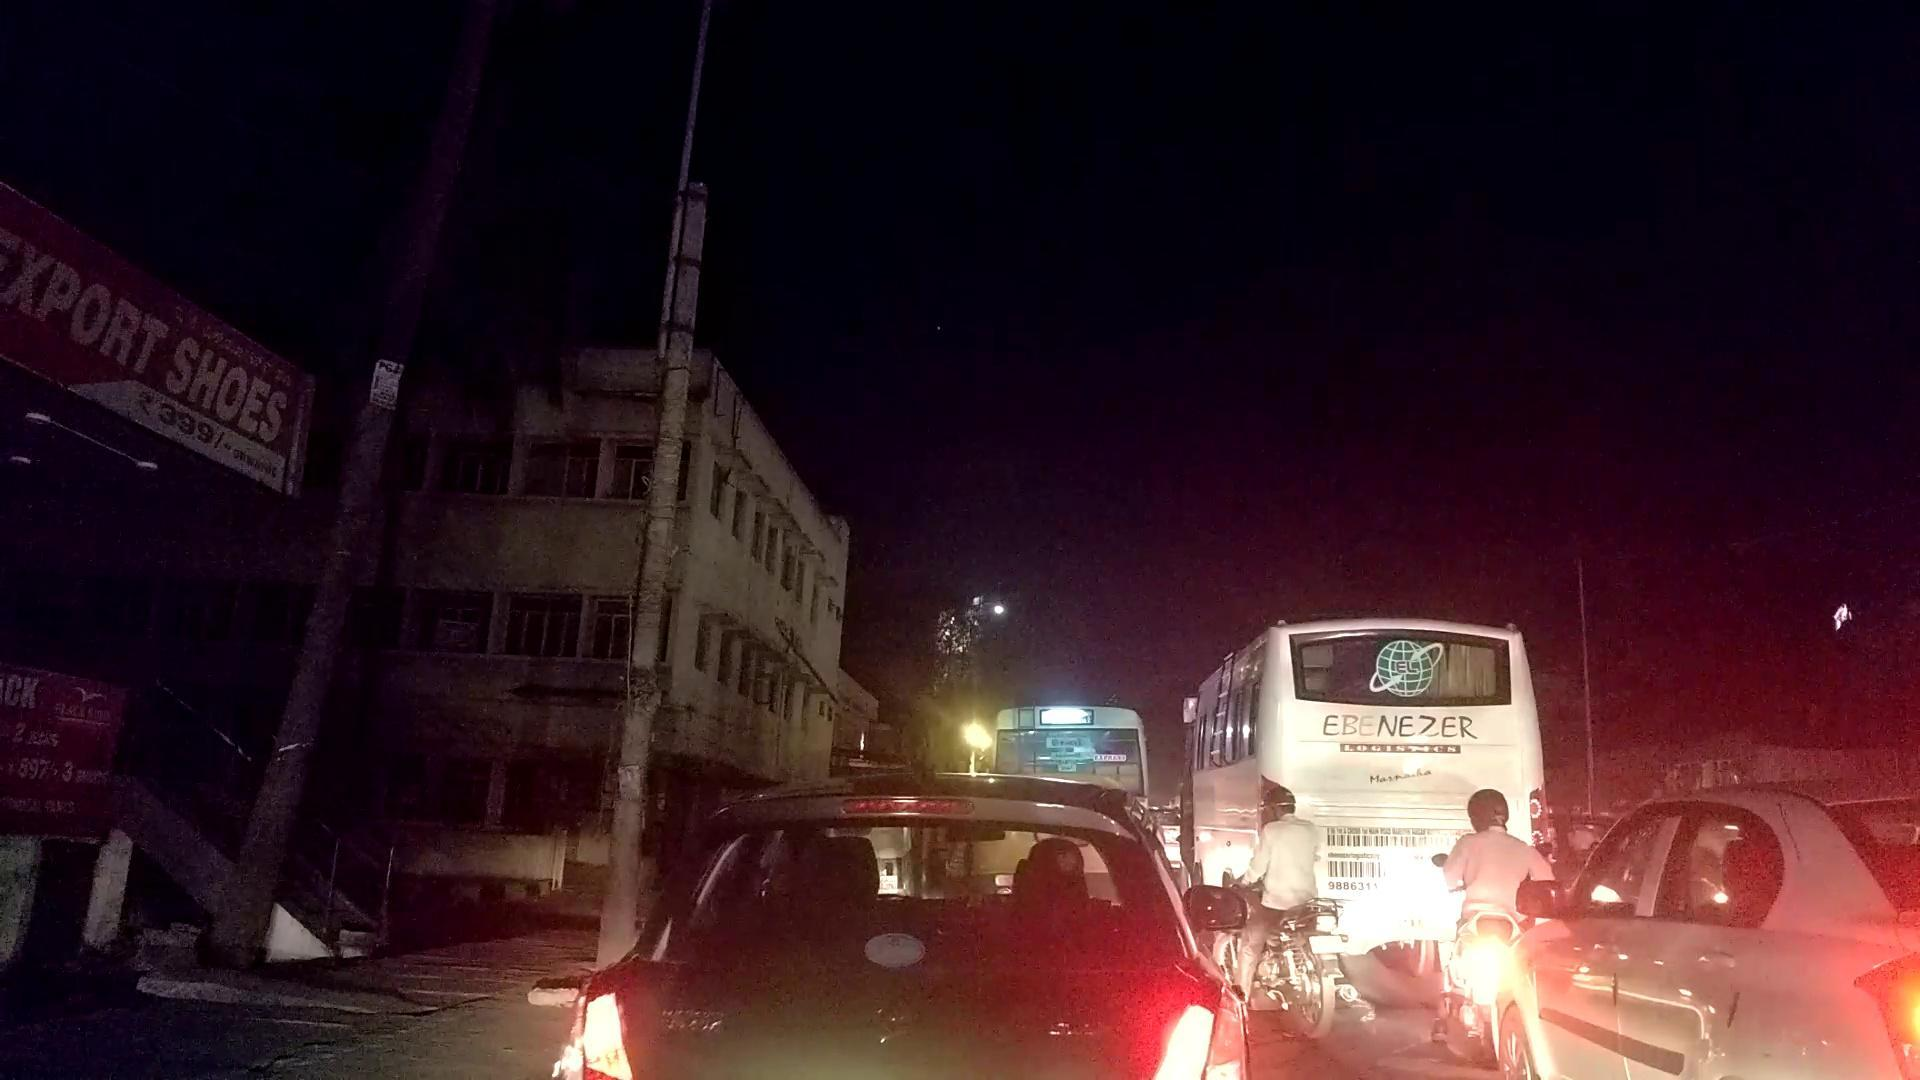on: (910, 632, 1071, 884)
